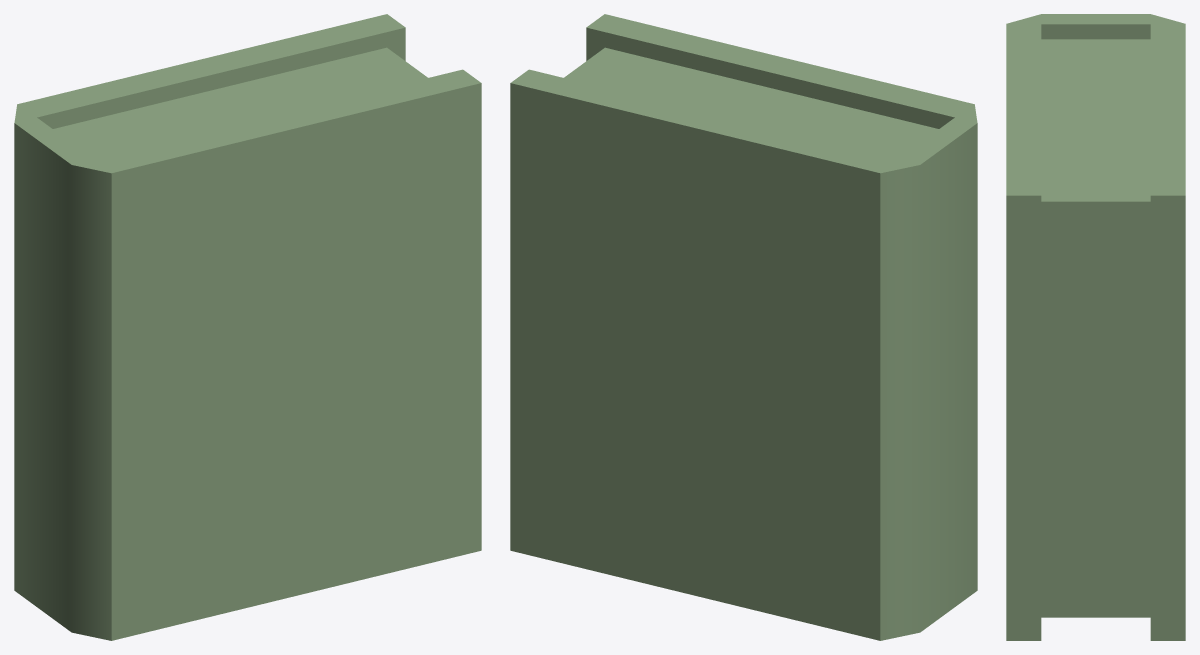
File: Book_V05.fbx
The picture shows the model from 3 angles, left to right: view 1: azimuth 30°, elevation 25°; view 2: azimuth 150°, elevation 25°; view 3: azimuth 270°, elevation 25°; orthographic projection. The views are drawn at different scales.
Parts seen in each view (by area): view 1: Book_V5; view 2: Book_V5; view 3: Book_V5.
Part boxes in pixels (<box>): Book_V5: <box>14,14,481,640</box>; Book_V5: <box>510,14,977,640</box>; Book_V5: <box>1006,14,1185,640</box>.
Size of the model in its own units: 21.97 by 25.09 by 9.17.
